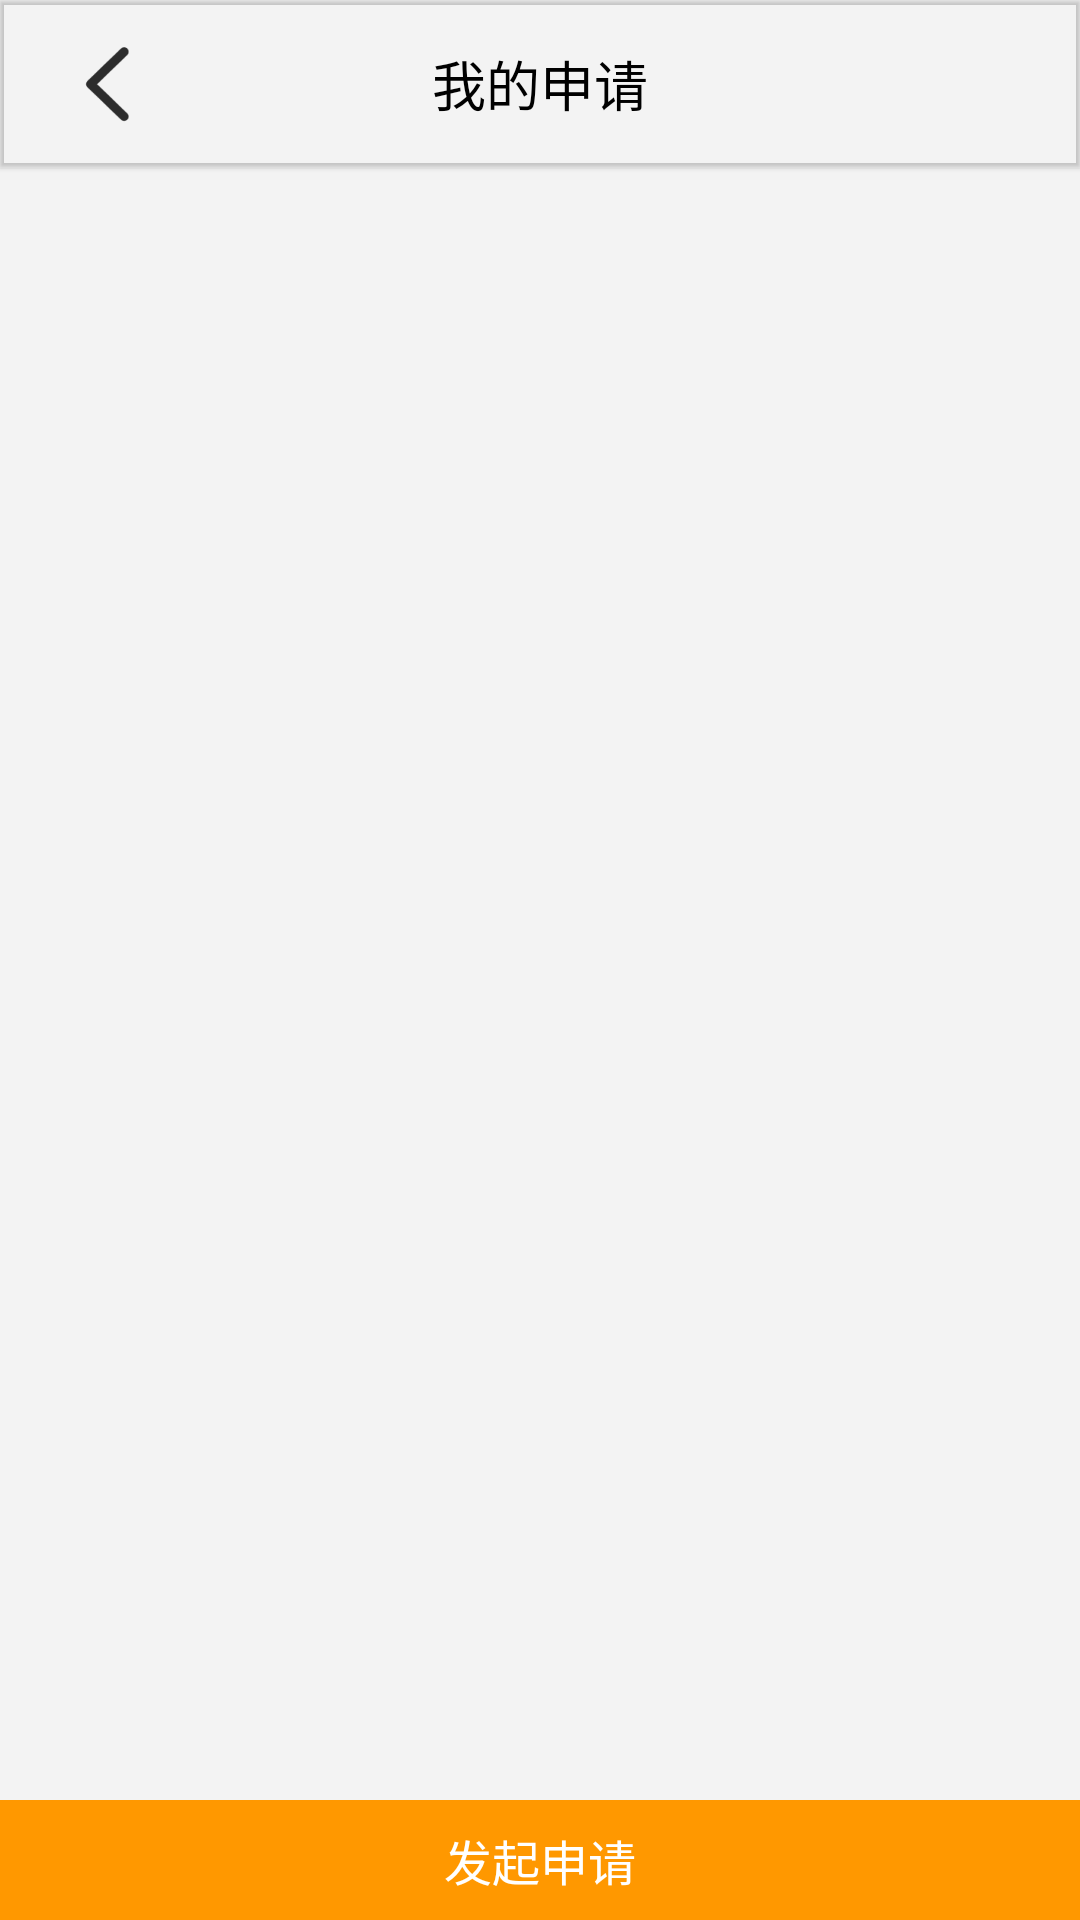

Icon bounding boxes for this 1080x1920 phone screenshot, format (x1, y1, x2, y2):
back: (86, 47, 129, 121)
